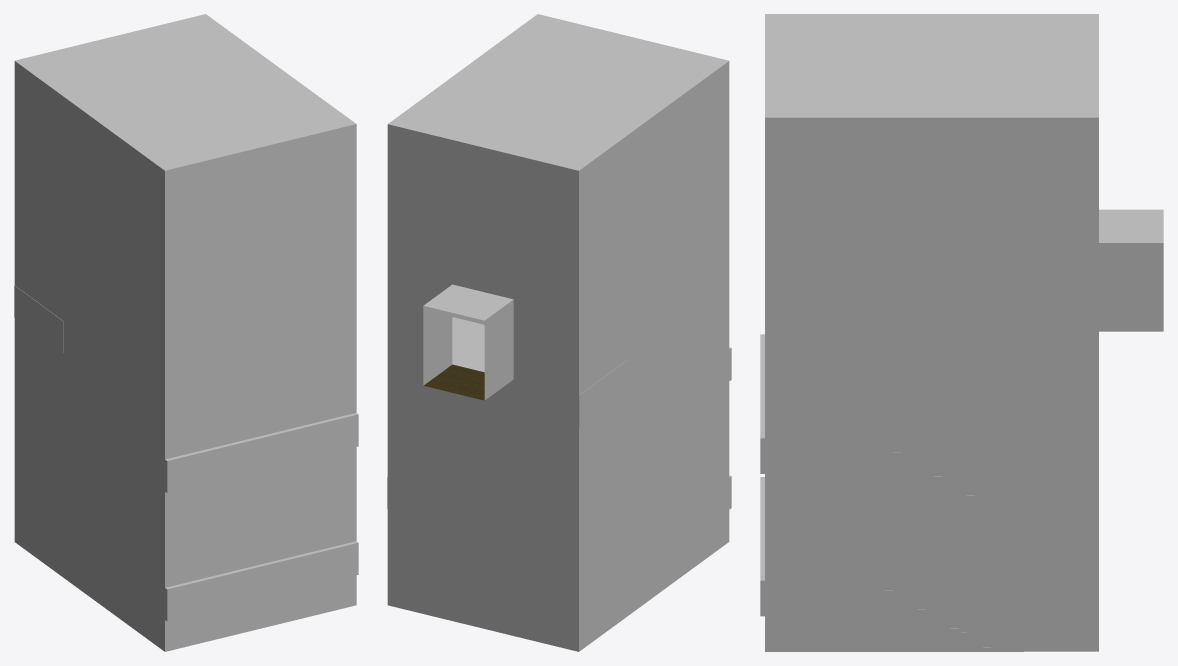
The model's file is FinalRoom.fbx.
The picture shows the model from 3 angles, left to right: view 1: azimuth 30°, elevation 25°; view 2: azimuth 150°, elevation 25°; view 3: azimuth 270°, elevation 25°; orthographic projection. The views are drawn at different scales.
Visible parts, largest first — view 1: WallChico_2, Cube__1_, PlatformStairs_3, PlatformStairs; view 2: WallChico_2, PlatformStairs_2, PlatformStairs, FloorChico_2; view 3: WallChico_2, Stairs__1_, Stairs__3_, PlatformStairs_2, PlatformStairs_3, Cube__1_.
Part boxes in pixels (x1,y1,x2,y2): WallChico_2: [14, 14, 356, 651]; Cube__1_: [165, 413, 358, 492]; PlatformStairs_3: [165, 541, 358, 621]; PlatformStairs: [14, 285, 63, 352]; WallChico_2: [387, 14, 729, 651]; PlatformStairs_2: [387, 477, 578, 555]; PlatformStairs: [452, 317, 627, 427]; FloorChico_2: [423, 364, 484, 400]; WallChico_2: [765, 14, 1163, 651]; Stairs__1_: [868, 438, 990, 509]; Stairs__3_: [868, 580, 990, 651]; PlatformStairs_2: [991, 509, 1098, 544]; PlatformStairs_3: [760, 477, 868, 616]; Cube__1_: [760, 334, 868, 473].
Bounding box in the file's own units: 1252 × 3000 × 2054.
